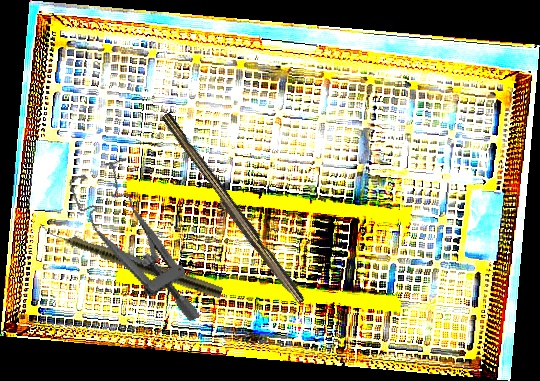Handpiece: (35, 221, 225, 300)
Scalpel Handle: (155, 111, 309, 308)
Speculum: (66, 151, 203, 344)
